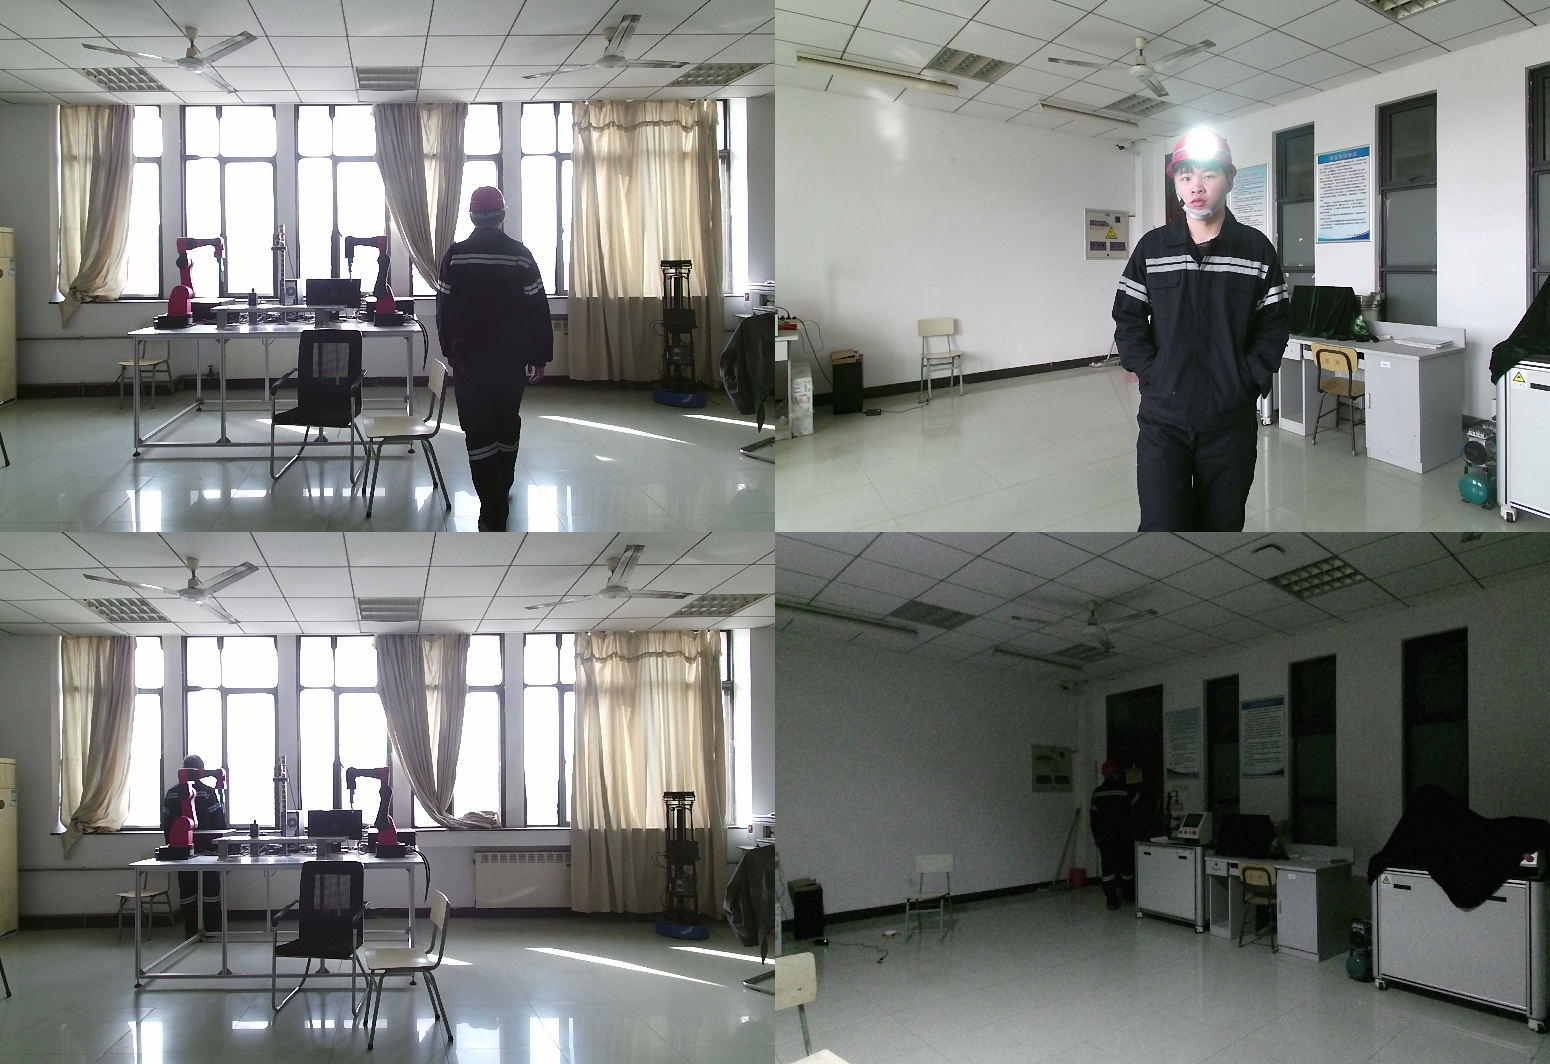person: (1113, 126, 1313, 532), (438, 185, 559, 532), (163, 754, 230, 946), (1083, 762, 1156, 918)
